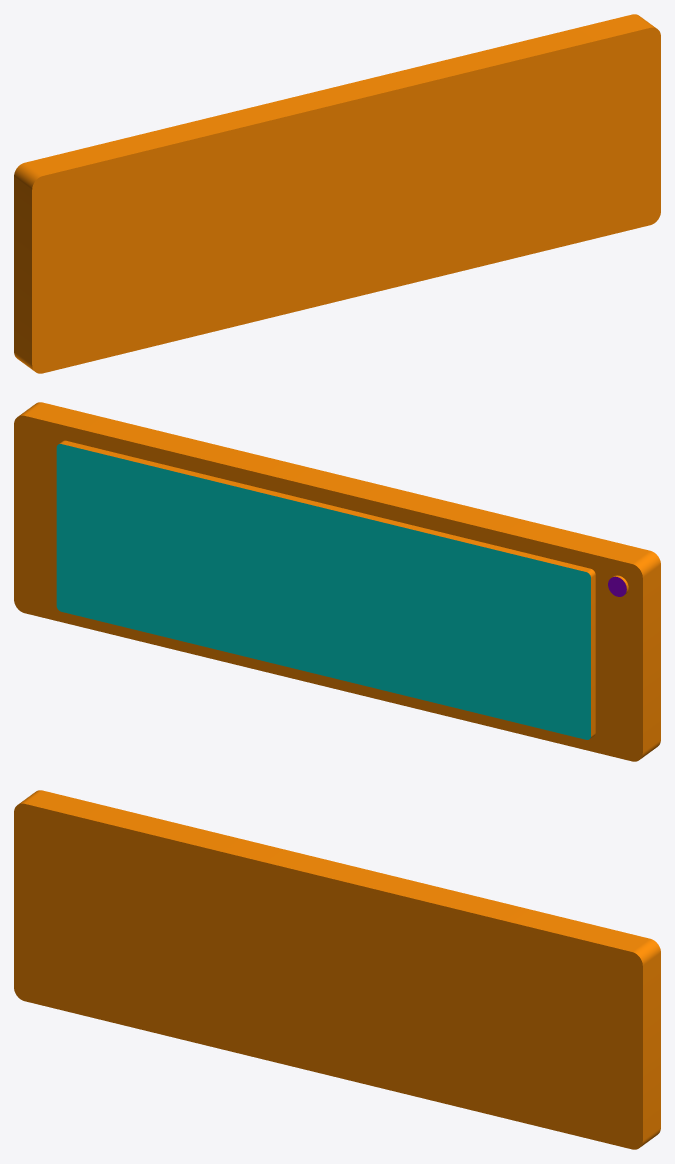
Rendered from survey_switch.fbx.
3 views of the same model, one above another, from view 1: azimuth 30°, elevation 25°; view 2: azimuth 150°, elevation 25°; view 3: azimuth 330°, elevation 25° (orthographic).
Parts seen in each view (by area): view 1: SurveySwitch; view 2: SurveySwitch; view 3: SurveySwitch.
Boxes of the visible parts, <box> form: SurveySwitch: <box>14,14,660,373</box>; SurveySwitch: <box>14,402,660,761</box>; SurveySwitch: <box>14,790,660,1149</box>.
Size of the model in its own units: 4 by 1.2 by 0.25.
